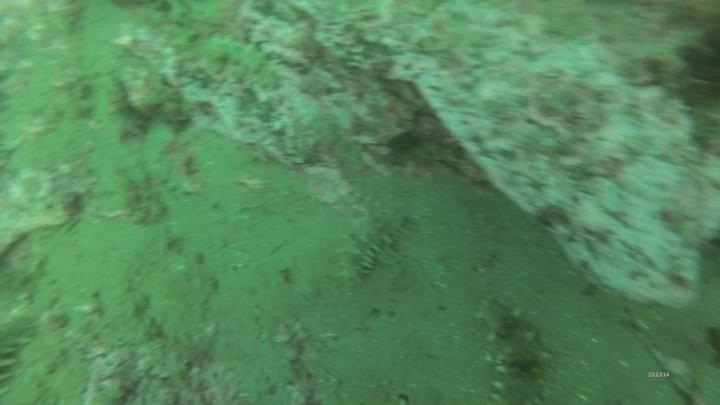holothurian: (471, 292, 555, 405), (171, 30, 284, 94), (331, 202, 413, 290)
